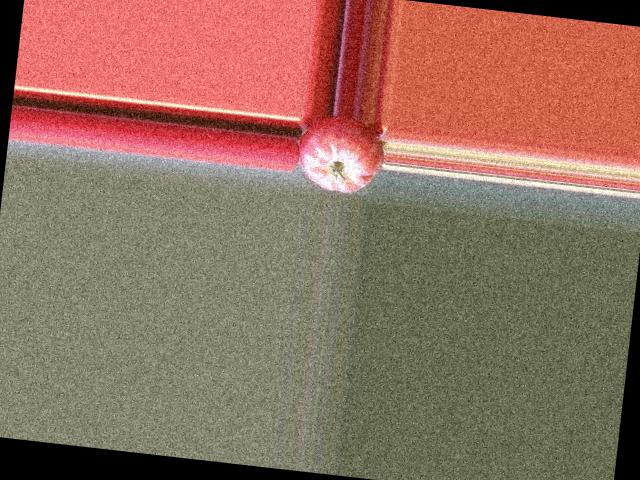tomato: (295, 111, 388, 196)
